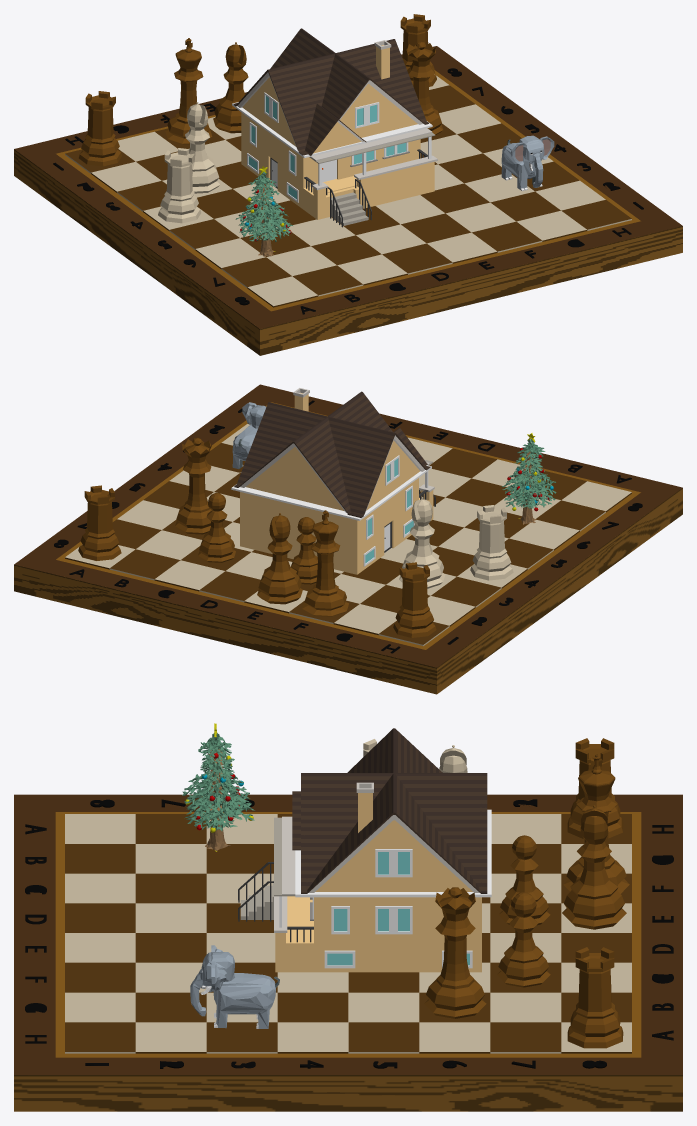
The picture shows the model from 3 angles, top to bottom: view 1: azimuth 30°, elevation 25°; view 2: azimuth 150°, elevation 25°; view 3: azimuth 270°, elevation 25°; orthographic projection. The views are drawn at different scales.
Visible parts, largest first — view 1: Cube.002, Cube.235, OBJRANDOM_CHRISTMAS_TREE, ANIMAL_ELEFANTE; view 2: Cube.002, Cube.235, OBJRANDOM_CHRISTMAS_TREE, ANIMAL_ELEFANTE; view 3: Cube.002, Cube.235, OBJRANDOM_CHRISTMAS_TREE, ANIMAL_ELEFANTE.
Boxes of the visible parts, <box> form: Cube.002: <box>14,14,682,355</box>; Cube.235: <box>232,28,437,227</box>; OBJRANDOM_CHRISTMAS_TREE: <box>235,166,292,256</box>; ANIMAL_ELEFANTE: <box>501,135,554,191</box>; Cube.002: <box>14,384,682,694</box>; Cube.235: <box>231,388,435,574</box>; OBJRANDOM_CHRISTMAS_TREE: <box>502,433,556,524</box>; ANIMAL_ELEFANTE: <box>232,402,266,469</box>; Cube.002: <box>14,738,682,1111</box>; Cube.235: <box>238,728,491,972</box>; OBJRANDOM_CHRISTMAS_TREE: <box>182,723,254,851</box>; ANIMAL_ELEFANTE: <box>190,945,279,1028</box>.
Bounding box in the file's own units: 3981 × 1507 × 4012.
Materials: 30 (3 with a texture image).
